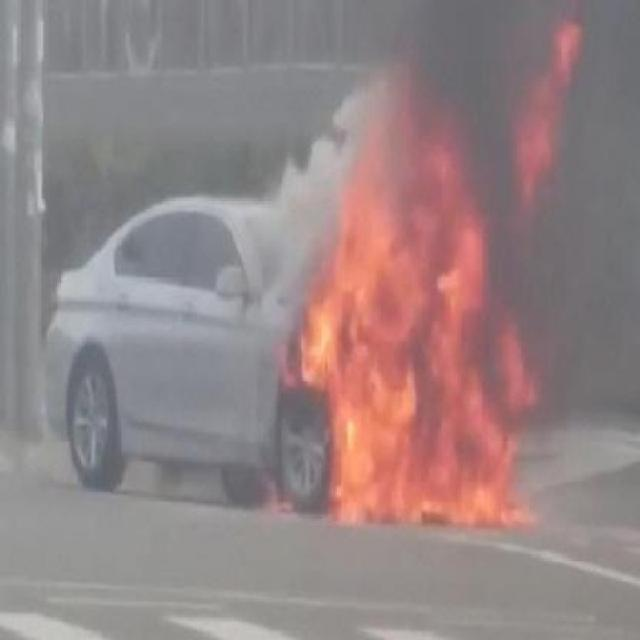Fire: (246, 202, 595, 536)
